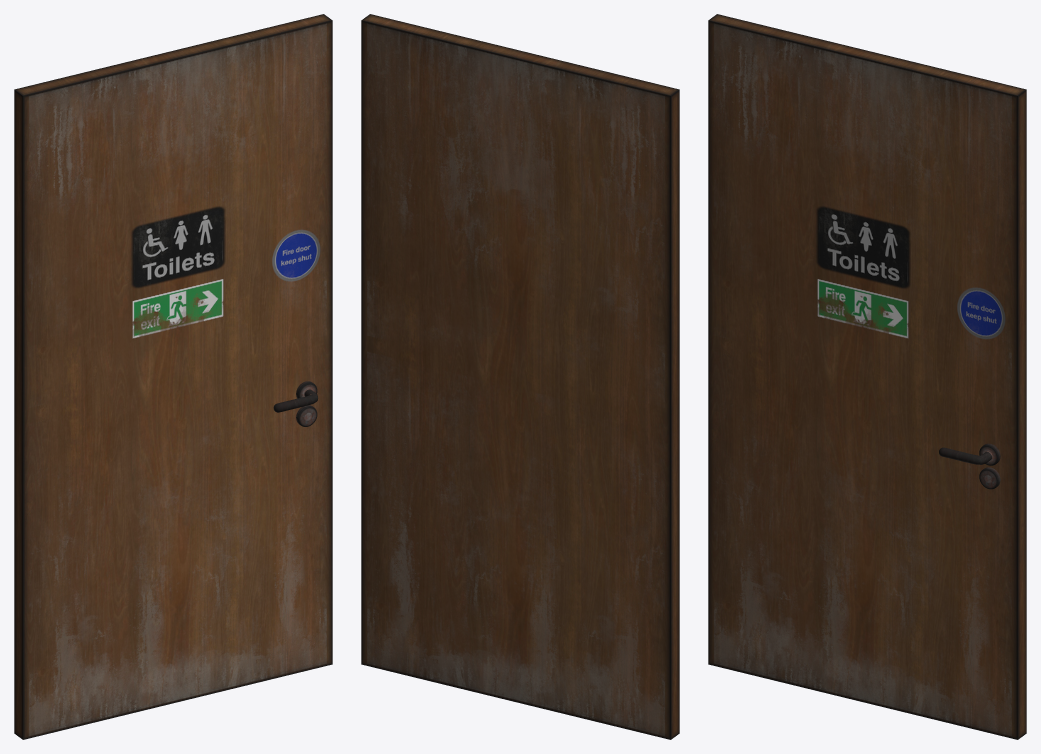
File: toilet__exit_door.glb
The picture shows the model from 3 angles, left to right: view 1: azimuth 30°, elevation 25°; view 2: azimuth 150°, elevation 25°; view 3: azimuth 330°, elevation 25°; orthographic projection.
Parts seen in each view (by area): view 1: SM_exit_door., SM_exit_door_handle.001; view 2: SM_exit_door.; view 3: SM_exit_door., SM_exit_door_handle.001.
Boxes of the visible parts, x1,y1,x2,y2 form: SM_exit_door.: (14, 14, 332, 739); SM_exit_door_handle.001: (273, 381, 317, 412); SM_exit_door.: (361, 14, 679, 739); SM_exit_door.: (708, 14, 1026, 739); SM_exit_door_handle.001: (939, 443, 1000, 465).
Bounding box in the file's own units: 124 × 246 × 14.69.
Materials: 1 (1 with a texture image).
